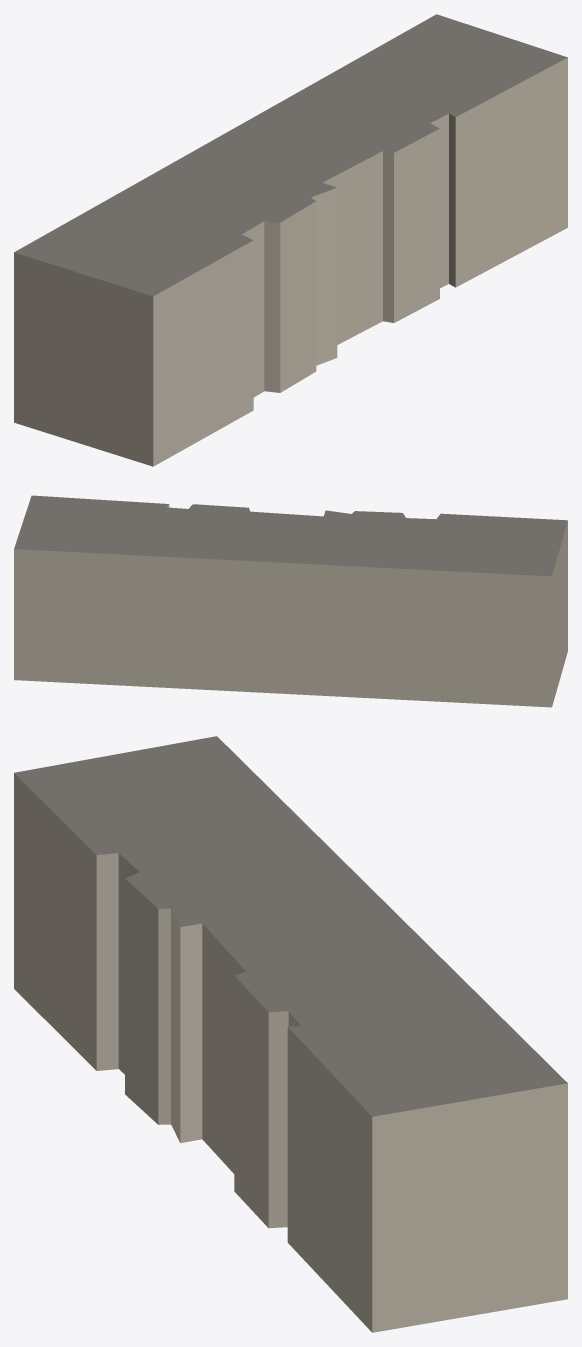
3 views of the same model, one above another, from view 1: azimuth 30°, elevation 25°; view 2: azimuth 150°, elevation 25°; view 3: azimuth 270°, elevation 25° (orthographic). The views are drawn at different scales.
Visible parts, largest first — view 1: HP-w1515076965; view 2: HP-w1515076965; view 3: HP-w1515076965.
Boxes of the visible parts, bbox=[...] form: HP-w1515076965: bbox=[14, 14, 567, 466]; HP-w1515076965: bbox=[14, 495, 567, 707]; HP-w1515076965: bbox=[14, 736, 567, 1332].
Bounding box in the file's own units: 68.05 × 18 × 41.84.
